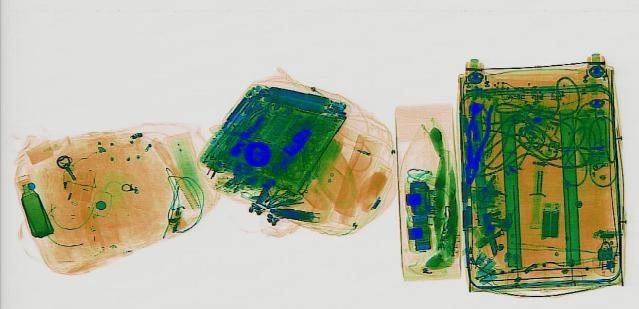Pliers: (455, 103, 496, 184)
